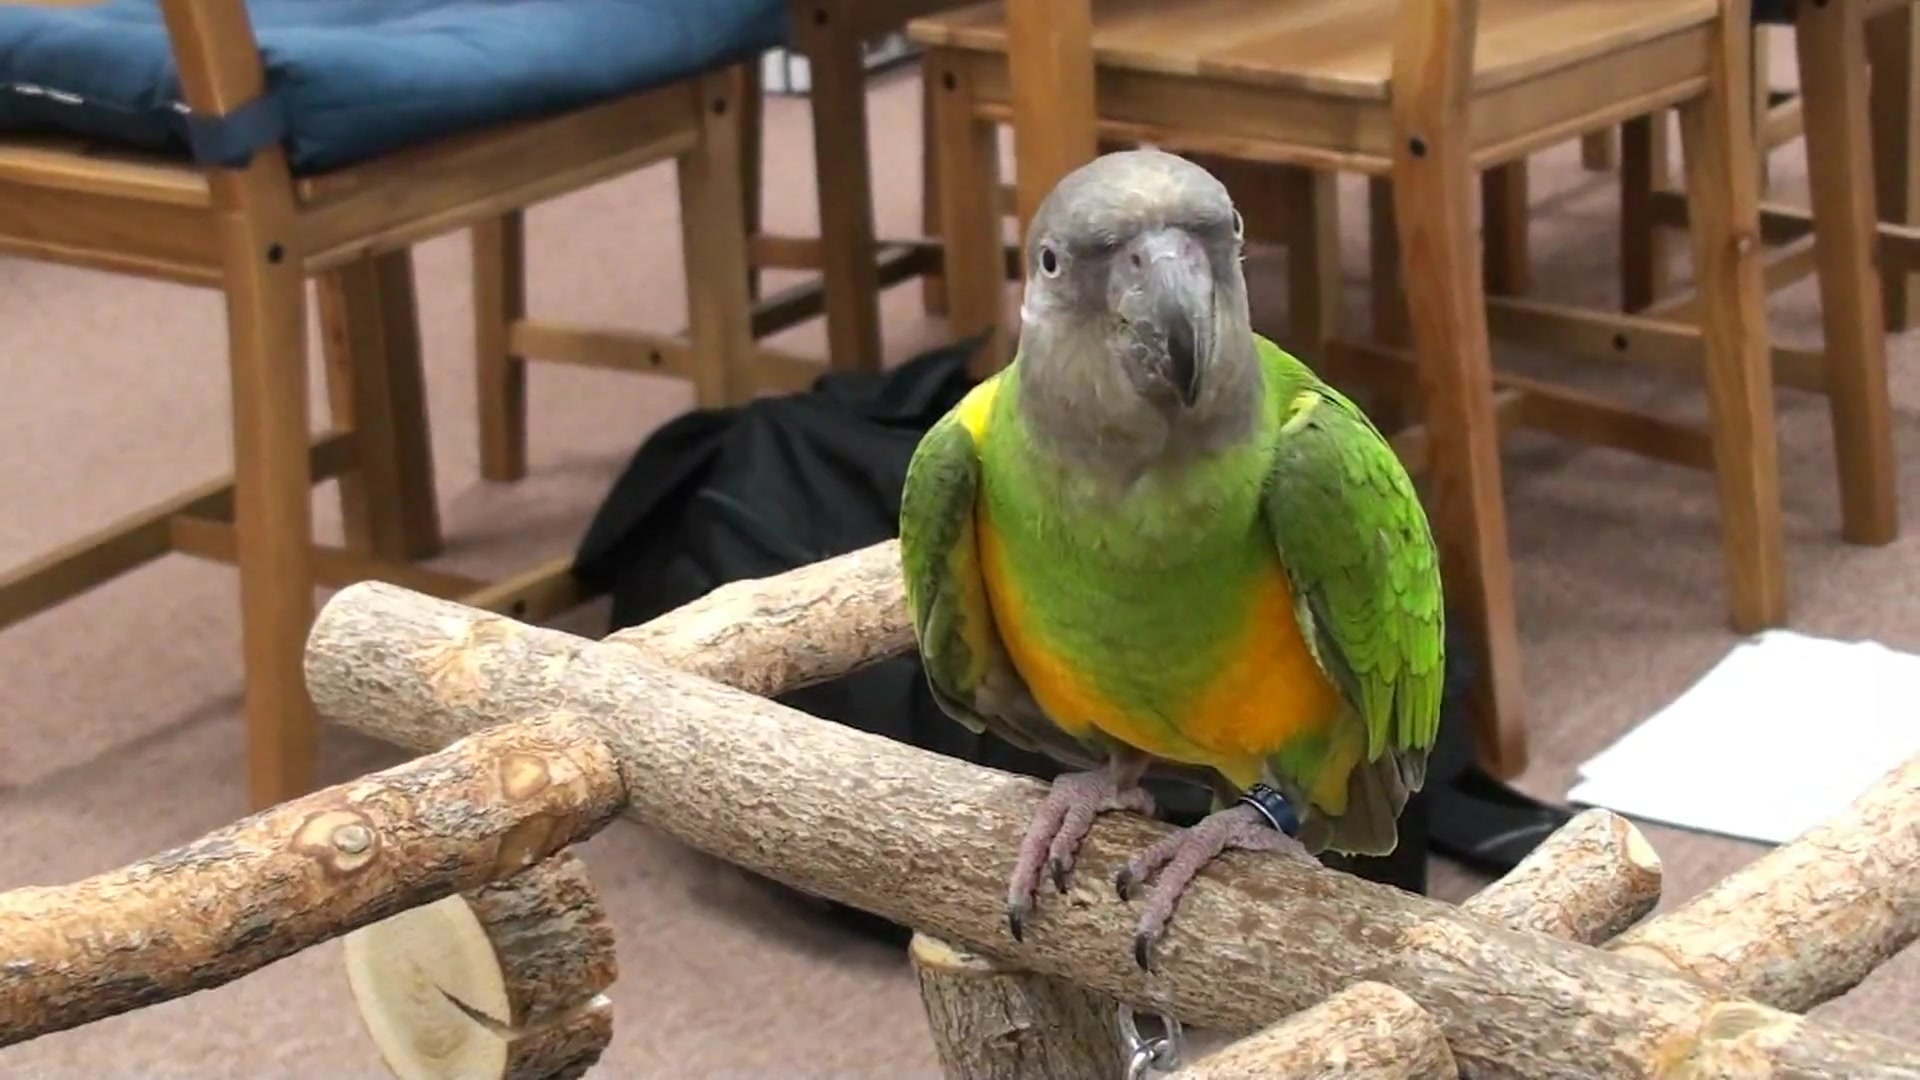bird: (901, 148, 1449, 976)
